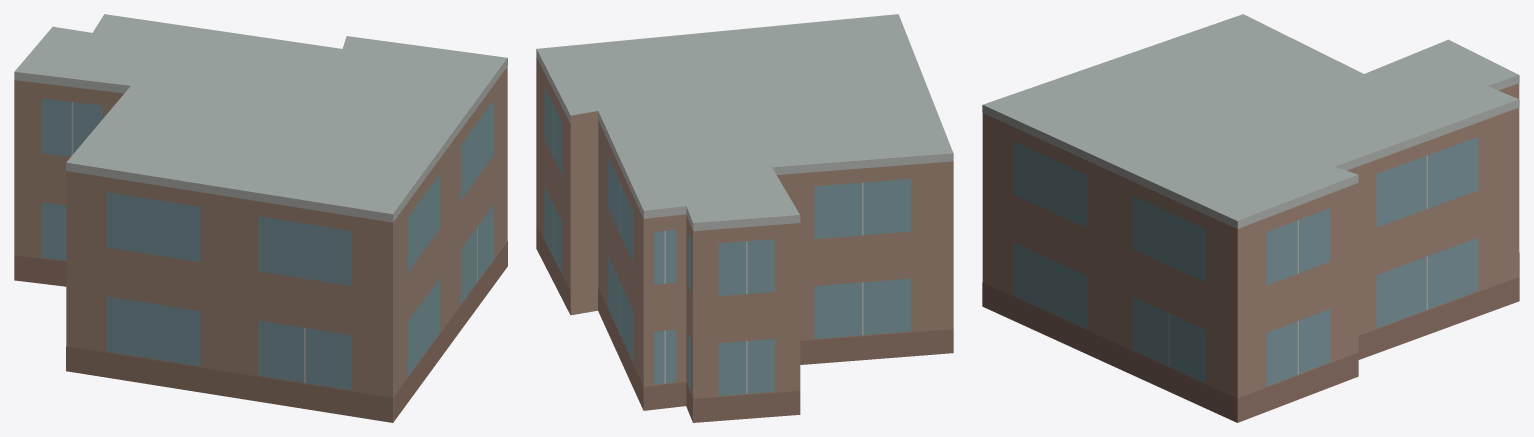
The model's file is survey-upis-32903026.glb.
The picture shows the model from 3 angles, left to right: view 1: azimuth 30°, elevation 25°; view 2: azimuth 150°, elevation 25°; view 3: azimuth 270°, elevation 25°; orthographic projection. The views are drawn at different scales.
Parts seen in each view (by area): view 1: survey-upis-32903026.tmp; view 2: survey-upis-32903026.tmp; view 3: survey-upis-32903026.tmp.
Part boxes in pixels (bbox=[...]): survey-upis-32903026.tmp: bbox=[14, 14, 507, 422]; survey-upis-32903026.tmp: bbox=[536, 14, 953, 422]; survey-upis-32903026.tmp: bbox=[982, 14, 1519, 422].
Bounding box in the file's own units: 13.43 × 6.1 × 14.72.
